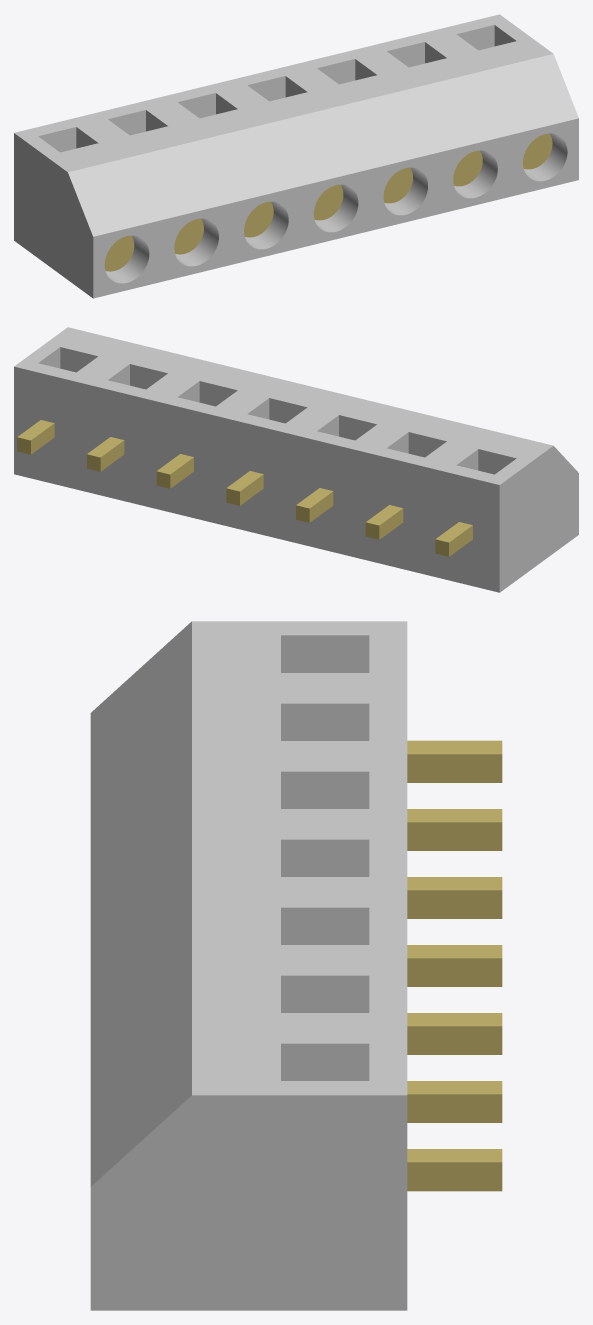
Rendered from screw_terminal_5_08_7pin.glb.
The picture shows the model from 3 angles, top to bottom: view 1: azimuth 30°, elevation 25°; view 2: azimuth 150°, elevation 25°; view 3: azimuth 270°, elevation 25°; orthographic projection. The views are drawn at different scales.
Parts seen in each view (by area): view 1: world; view 2: world; view 3: world.
Boxes of the visible parts, <box> form: world: <box>14,14,578,298</box>; world: <box>14,327,578,592</box>; world: <box>90,621,502,1310</box>.
Size of the model in its own units: 35.4 by 7.5 by 13.
